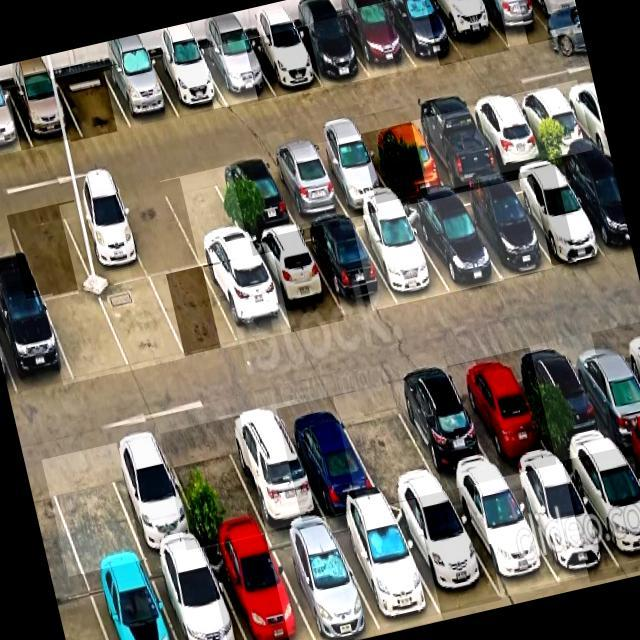empty: (160, 424, 266, 545), (333, 384, 442, 501), (43, 446, 143, 573), (161, 169, 250, 265), (7, 204, 93, 298), (113, 183, 199, 277), (98, 278, 185, 369), (150, 267, 239, 355), (44, 290, 129, 382), (56, 68, 132, 137)
occupied: (328, 505, 443, 634), (387, 368, 502, 490), (265, 521, 380, 640), (388, 494, 501, 613), (447, 478, 559, 597), (505, 465, 619, 581), (219, 405, 324, 530), (448, 355, 556, 476), (101, 434, 203, 557), (276, 398, 382, 516), (514, 340, 617, 460), (205, 534, 315, 640), (504, 166, 606, 265), (562, 448, 640, 574), (402, 196, 502, 292), (451, 184, 551, 279), (250, 230, 343, 331), (302, 218, 397, 315), (351, 207, 449, 300), (147, 547, 245, 640), (563, 331, 640, 446), (58, 193, 148, 288), (555, 155, 632, 257), (203, 256, 291, 342), (85, 560, 176, 640), (0, 297, 73, 396), (211, 157, 297, 238), (411, 110, 500, 188), (263, 146, 347, 224), (310, 135, 395, 211), (465, 96, 548, 171), (361, 123, 446, 196), (512, 86, 593, 159), (337, 3, 415, 77), (382, 0, 463, 68), (291, 17, 369, 86), (103, 58, 179, 127), (150, 50, 228, 117), (8, 78, 81, 147), (426, 0, 509, 60), (245, 31, 321, 96), (201, 41, 273, 105), (477, 0, 554, 46), (0, 89, 32, 155), (529, 0, 581, 36)
